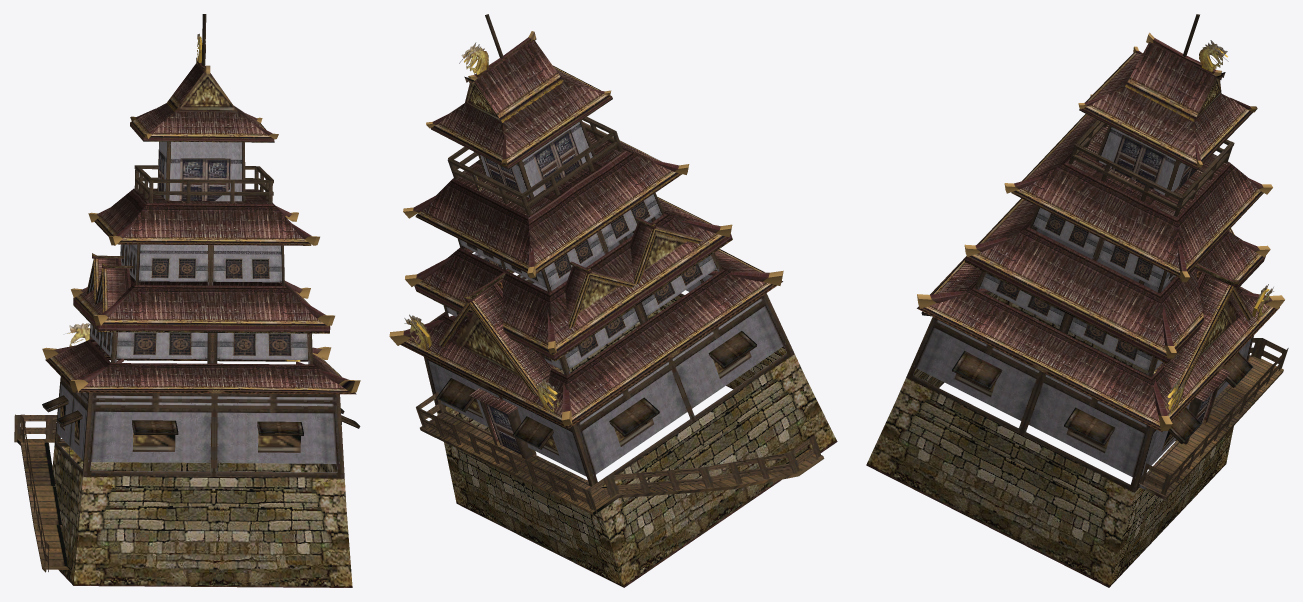
File: china_castle.fbx
3 views of the same model, side by side, from view 1: azimuth 30°, elevation 25°; view 2: azimuth 150°, elevation 25°; view 3: azimuth 270°, elevation 25° (orthographic). The views are drawn at different scales.
Visible parts, largest first — view 1: Object01, Object02; view 2: Object01, Object02; view 3: Object01, Object02.
Part boxes in pixels (box(x1,y1,x2,y2)): Object01: box(42, 14, 360, 587); Object02: box(14, 33, 300, 572); Object01: box(389, 14, 837, 587); Object02: box(404, 42, 824, 515); Object01: box(866, 14, 1284, 587); Object02: box(1139, 40, 1288, 499).
Bounding box in the file's own units: 9.84 × 9.99 × 14.
1 material, 1 textured.
